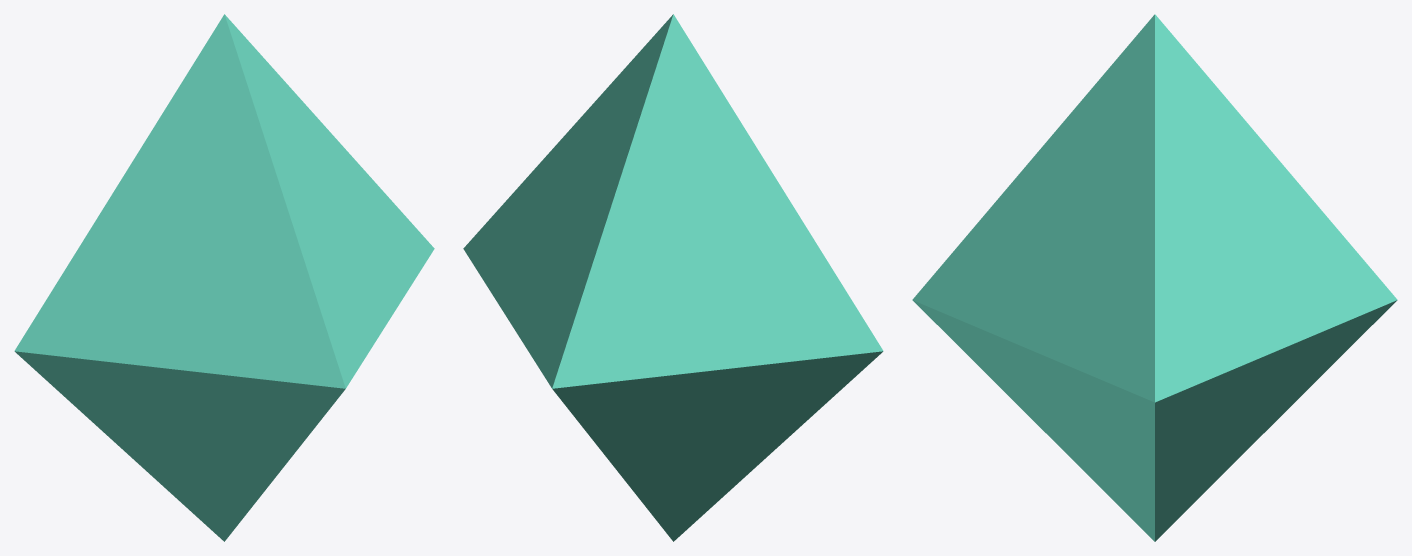
File: sample.glb
The picture shows the model from 3 angles, left to right: view 1: azimuth 30°, elevation 25°; view 2: azimuth 150°, elevation 25°; view 3: azimuth 270°, elevation 25°; orthographic projection.
Visible parts, largest first — view 1: Memory Gem; view 2: Memory Gem; view 3: Memory Gem.
Boxes of the visible parts, bbox=[...] form: Memory Gem: bbox=[14, 14, 434, 541]; Memory Gem: bbox=[463, 14, 883, 541]; Memory Gem: bbox=[912, 14, 1397, 541].
Bounding box in the file's own units: 1 × 1.2 × 1.
